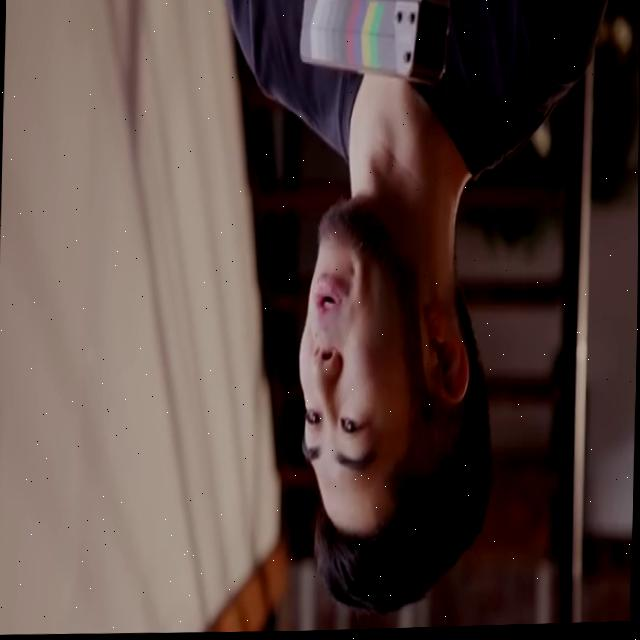Clapperboard: (297, 0, 452, 95)
